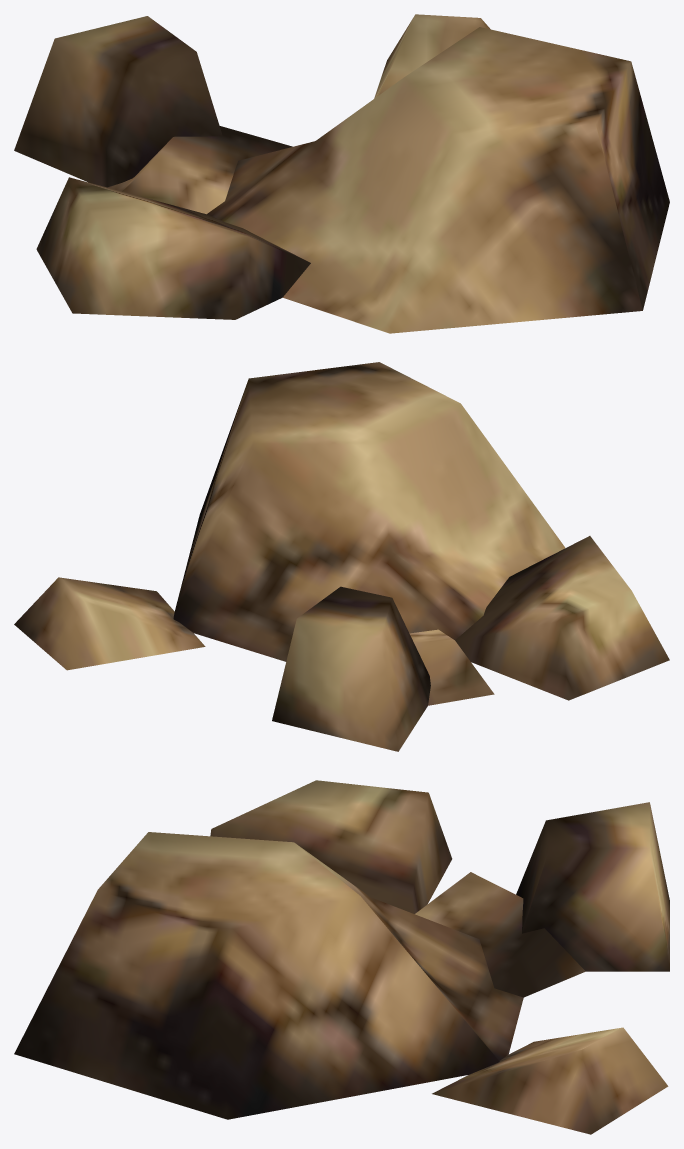
Rendered from dec_red_stone_06_14691.glb.
The picture shows the model from 3 angles, top to bottom: view 1: azimuth 30°, elevation 25°; view 2: azimuth 150°, elevation 25°; view 3: azimuth 270°, elevation 25°; orthographic projection. The views are drawn at different scales.
Visible parts, largest first — view 1: red_stone_06_mesh; view 2: red_stone_06_mesh; view 3: red_stone_06_mesh.
Part boxes in pixels (x1,y1,x2,y2): red_stone_06_mesh: [14, 14, 669, 333]; red_stone_06_mesh: [14, 362, 669, 751]; red_stone_06_mesh: [14, 780, 669, 1134].
Bounding box in the file's own units: 0.9182 × 0.2343 × 0.8629.
Materials: 1 (1 with a texture image).
